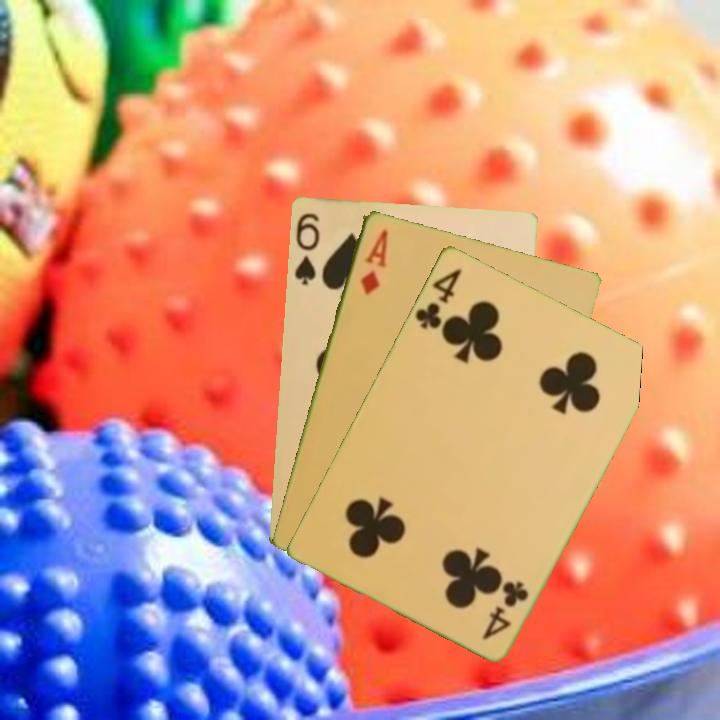4c: (411, 264, 465, 332), (478, 576, 532, 642)
6s: (290, 209, 322, 287)
Ad: (356, 224, 391, 297)
